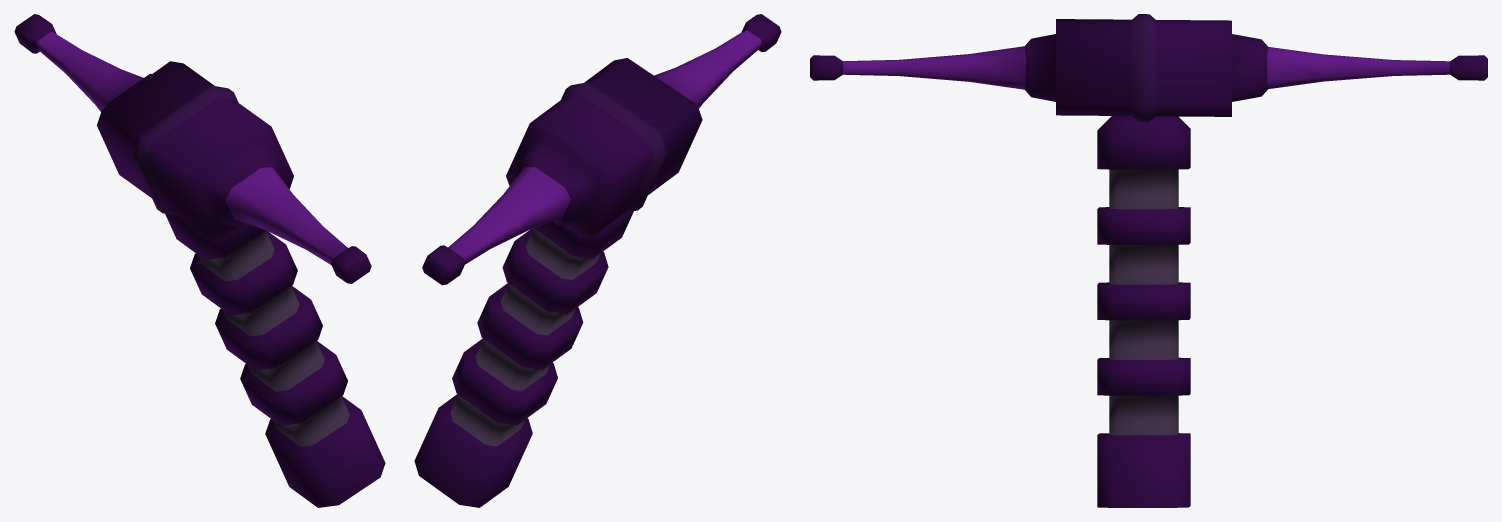
The model's file is fusionReady.glb.
The picture shows the model from 3 angles, left to right: view 1: azimuth 30°, elevation 25°; view 2: azimuth 150°, elevation 25°; view 3: azimuth 270°, elevation 25°; orthographic projection. The views are drawn at different scales.
Visible parts, largest first — view 1: body.004; view 2: body.004; view 3: body.004.
Boxes of the visible parts, x1=… form: body.004: x1=14, y1=14, x2=385, y2=507; body.004: x1=414, y1=14, x2=781, y2=507; body.004: x1=810, y1=14, x2=1487, y2=507.
Bounding box in the file's own units: 0.1831 × 0.3213 × 0.4454.
Materials: 1 (1 with a texture image).
